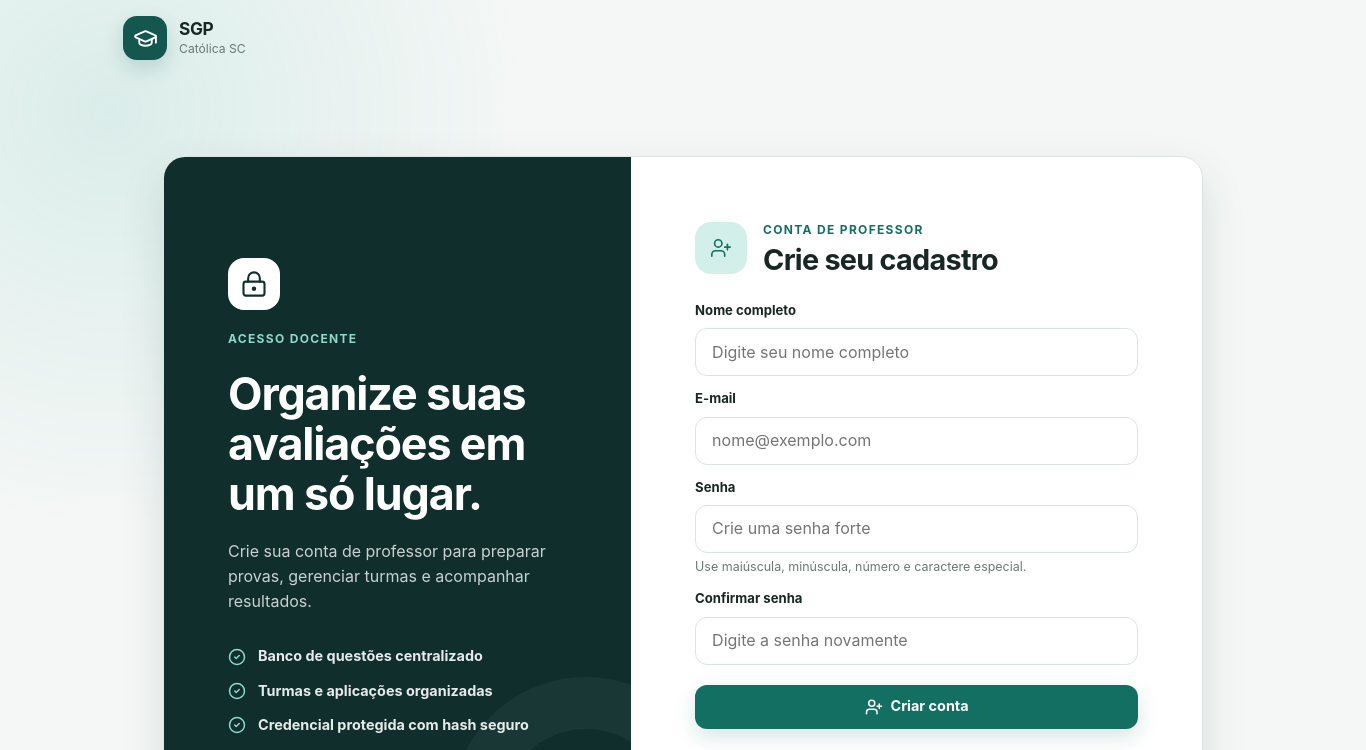
Test case: tela de cadastro de professor › não envia senha fraca ou confirmação divergente
The image size is (1366, 750).
Type "Maria da Silva" into the field with id "full-name". click: (917, 352)
box: x1=695 y1=328 x2=1138 y2=376
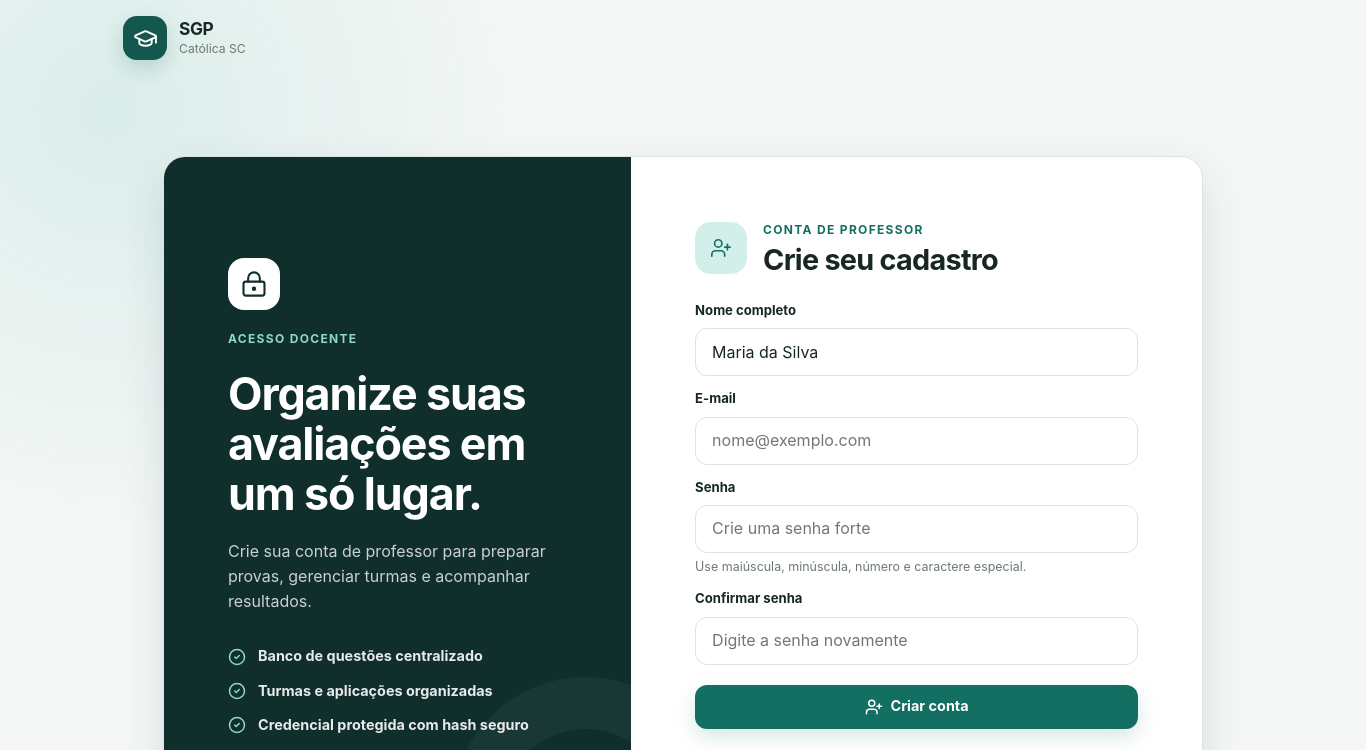
Type "maria@example.com" into the field with id "email". click: (917, 440)
box: x1=695 y1=416 x2=1138 y2=464
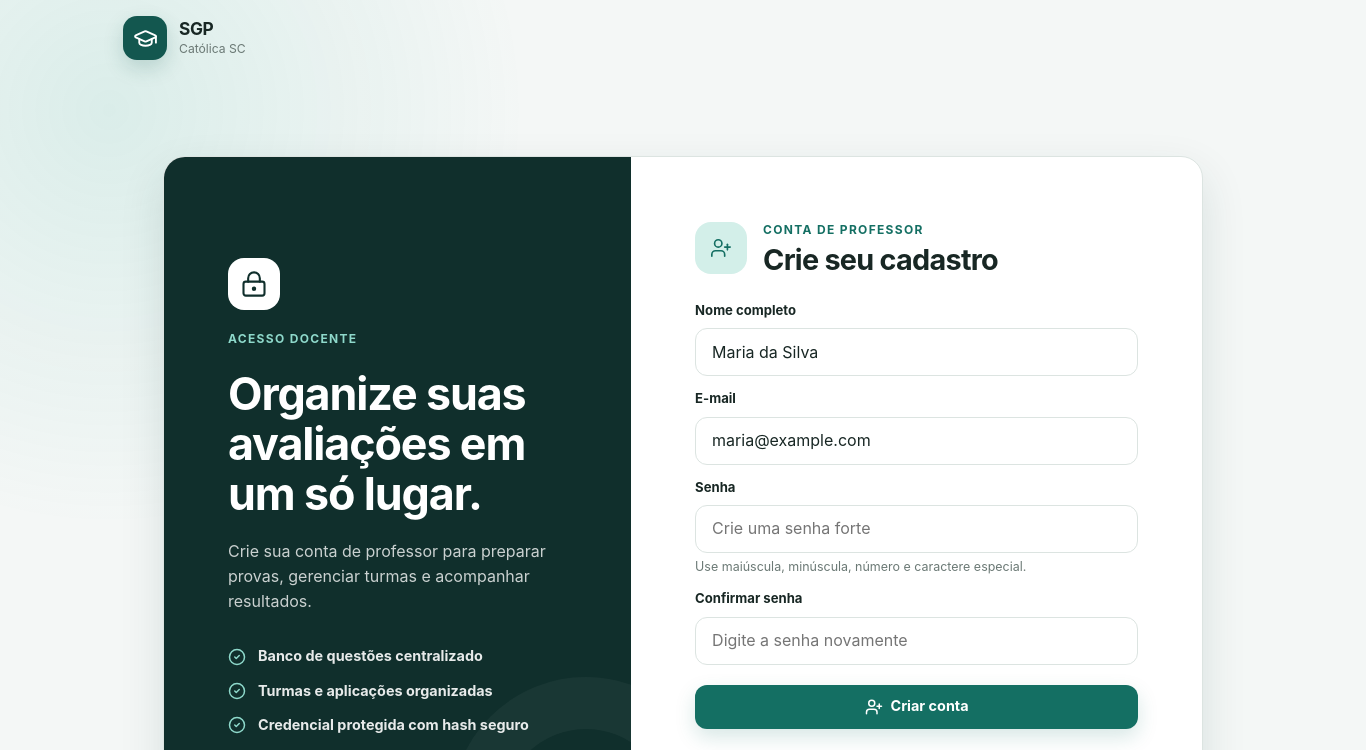
Type "12345678" into the password field labelled "Senha". click: (917, 529)
box: x1=695 y1=505 x2=1138 y2=553
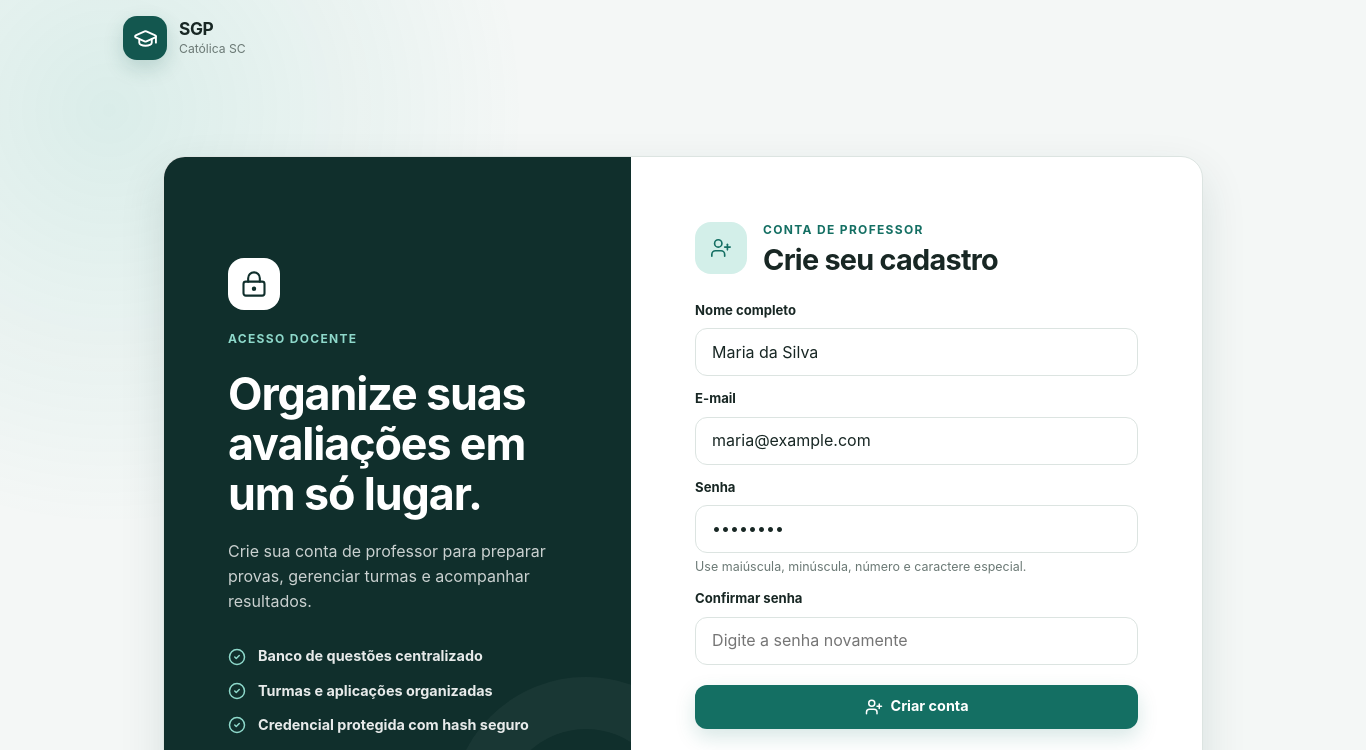
Type "outra senha" into the password field labelled "Confirmar senha". click: (917, 641)
box: x1=695 y1=617 x2=1138 y2=665
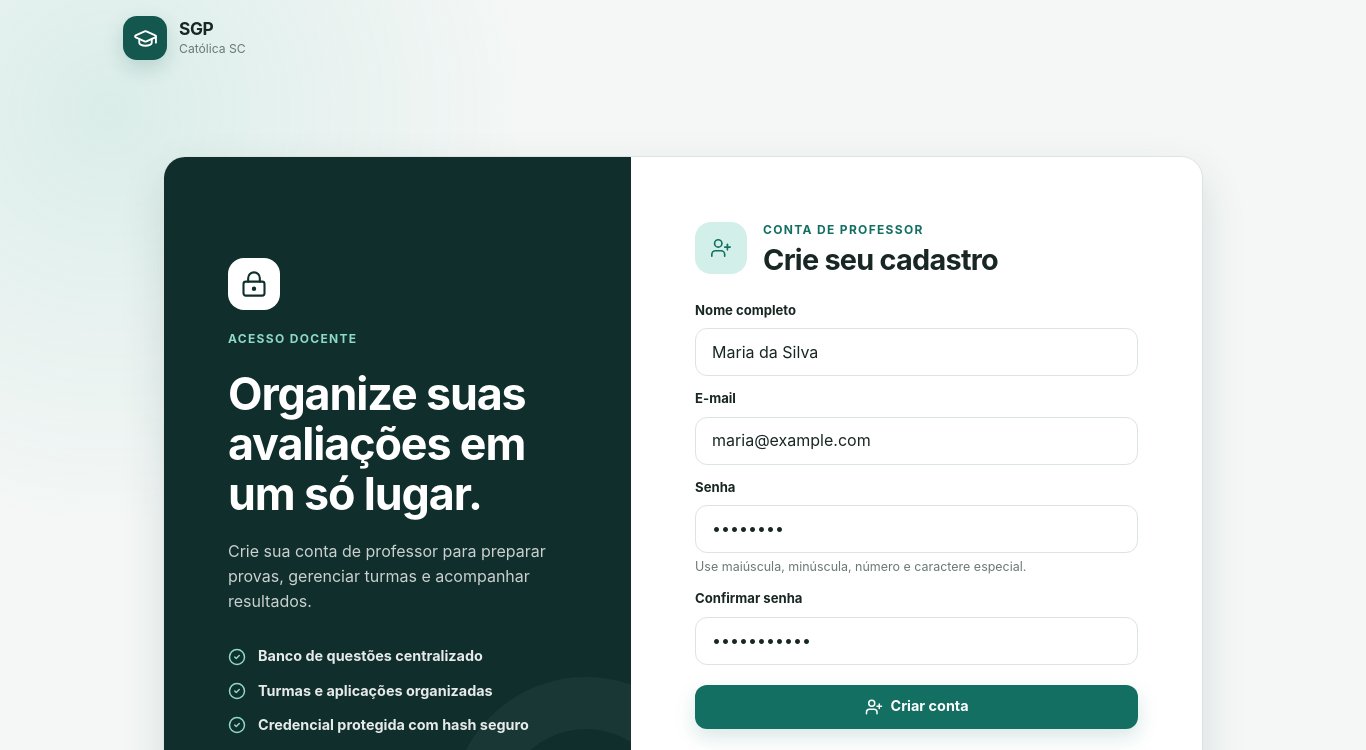
Submit the form, box x1=695 y1=300 x2=1138 y2=728
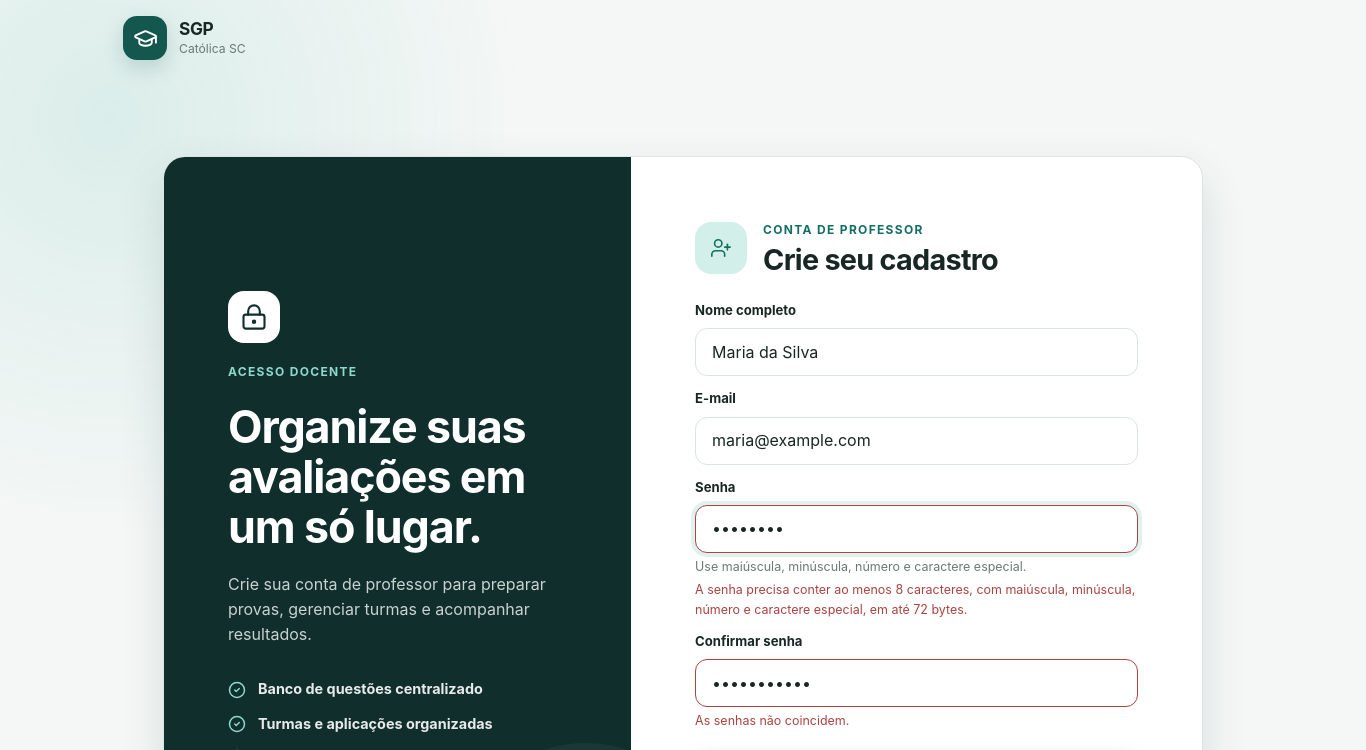
Expected: the text "A senha precisa conter" is shown, x1=695 y1=582 x2=1135 y2=616
Expected: the text "As senhas não coincidem" is shown, x1=695 y1=713 x2=849 y2=728
